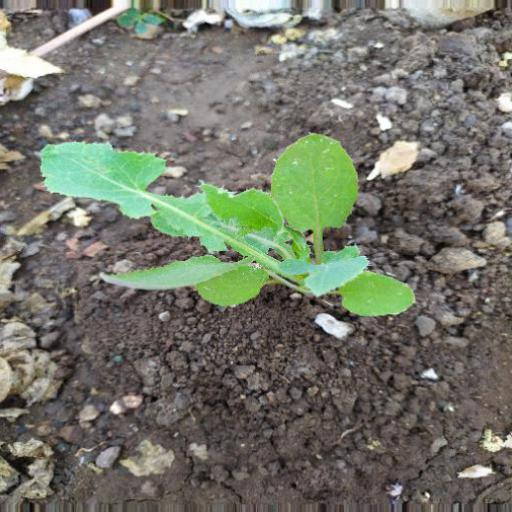crop: (35, 117, 420, 336)
